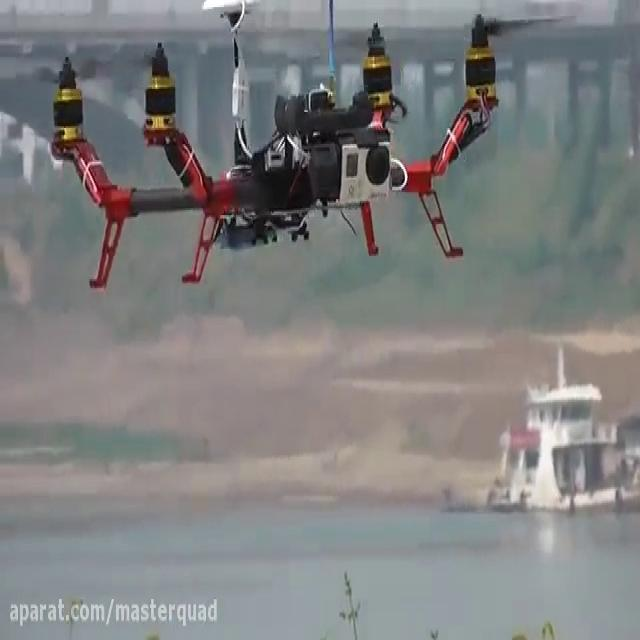drones: (19, 0, 585, 304)
